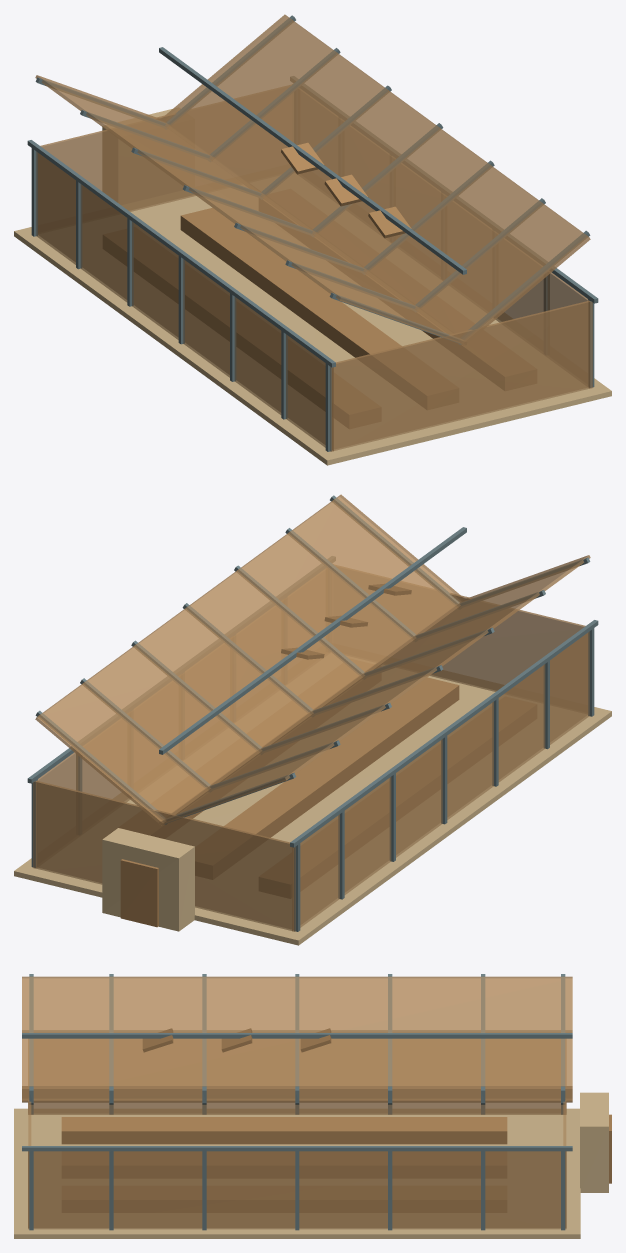
Rendered from massive-greenhouse.glb.
The picture shows the model from 3 angles, top to bottom: view 1: azimuth 30°, elevation 25°; view 2: azimuth 150°, elevation 25°; view 3: azimuth 270°, elevation 25°; orthographic projection. The views are drawn at different scales.
Parts seen in each view (by area): view 1: massive-greenhouse-static-greenhouse-glazing, massive-greenhouse-static-greenhouse-concrete, massive-greenhouse-static-greenhouse-growing-bed, massive-greenhouse-static-greenhouse-steel, massive-greenhouse-static-greenhouse-safety; view 2: massive-greenhouse-static-greenhouse-glazing, massive-greenhouse-static-greenhouse-concrete, massive-greenhouse-static-greenhouse-growing-bed, massive-greenhouse-static-greenhouse-steel, massive-greenhouse-static-greenhouse-safety; view 3: massive-greenhouse-static-greenhouse-glazing, massive-greenhouse-static-greenhouse-concrete, massive-greenhouse-static-greenhouse-growing-bed, massive-greenhouse-static-greenhouse-steel, massive-greenhouse-static-greenhouse-safety.
Boxes of the visible parts, bbox=[...] form: massive-greenhouse-static-greenhouse-glazing: bbox=[35, 14, 592, 451]; massive-greenhouse-static-greenhouse-concrete: bbox=[14, 108, 611, 465]; massive-greenhouse-static-greenhouse-growing-bed: bbox=[103, 189, 536, 428]; massive-greenhouse-static-greenhouse-steel: bbox=[27, 15, 598, 451]; massive-greenhouse-static-greenhouse-safety: bbox=[281, 142, 411, 238]; massive-greenhouse-static-greenhouse-glazing: bbox=[33, 494, 590, 931]; massive-greenhouse-static-greenhouse-concrete: bbox=[14, 653, 611, 945]; massive-greenhouse-static-greenhouse-growing-bed: bbox=[119, 659, 536, 898]; massive-greenhouse-static-greenhouse-steel: bbox=[27, 495, 598, 931]; massive-greenhouse-static-greenhouse-safety: bbox=[120, 583, 411, 927]; massive-greenhouse-static-greenhouse-glazing: bbox=[22, 976, 572, 1229]; massive-greenhouse-static-greenhouse-concrete: bbox=[14, 1092, 608, 1238]; massive-greenhouse-static-greenhouse-growing-bed: bbox=[61, 1117, 507, 1212]; massive-greenhouse-static-greenhouse-steel: bbox=[22, 974, 572, 1230]; massive-greenhouse-static-greenhouse-safety: bbox=[142, 1028, 611, 1183].
Size of the model in its own units: 12.8 by 6.94 by 25.75.
